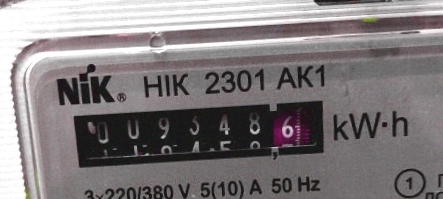0: (124, 115, 140, 139), (94, 117, 108, 143)
3: (185, 110, 200, 137)
4: (215, 108, 230, 136)
6: (277, 111, 295, 139)
8: (245, 107, 261, 136)
9: (154, 113, 170, 140)
screen: (62, 91, 335, 176)
